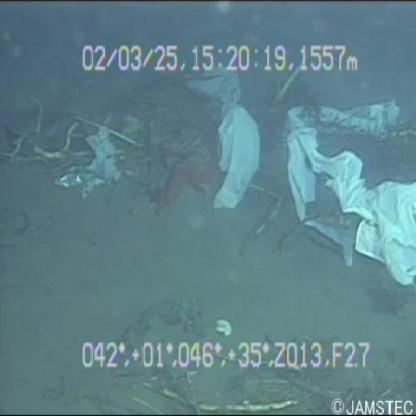Rác: (271, 92, 416, 292), (173, 62, 267, 223)
